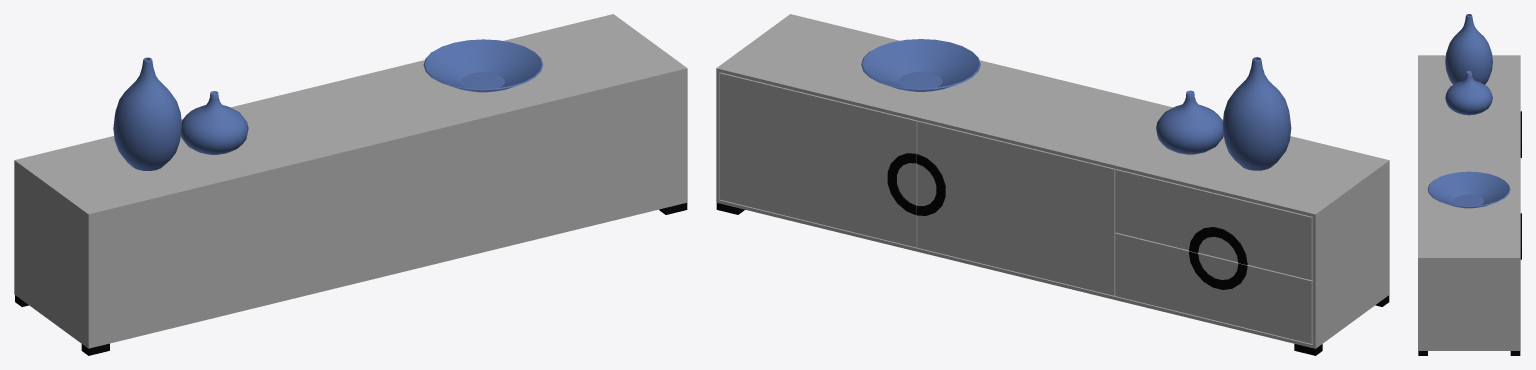
File: meko t.v table 23.fbx
3 renders of one model, left to right at view 1: azimuth 30°, elevation 25°; view 2: azimuth 150°, elevation 25°; view 3: azimuth 270°, elevation 25°, orthographic. The views are drawn at different scales.
Parts seen in each view (by area): view 1: base, vase_5, plate, vase_4; view 2: doors, base, vase_5, plate, handles, vase_4; view 3: base, plate, vase_5, vase_4, handles, legs.
Part boxes in pixels (x1,y1,x2,y2): base: [14, 14, 687, 348]; vase_5: [113, 57, 181, 170]; plate: [423, 39, 542, 92]; vase_4: [181, 91, 248, 154]; doors: [720, 72, 1312, 343]; base: [716, 14, 1389, 348]; vase_5: [1222, 57, 1291, 170]; plate: [861, 39, 980, 91]; handles: [887, 153, 1247, 289]; vase_4: [1156, 90, 1223, 154]; base: [1418, 55, 1520, 350]; plate: [1427, 171, 1510, 208]; vase_5: [1445, 14, 1492, 84]; vase_4: [1445, 71, 1492, 115]; handles: [1520, 111, 1521, 259]; legs: [1418, 351, 1520, 355].
Size of the model in its own units: 140 by 55.09 by 30.31.
